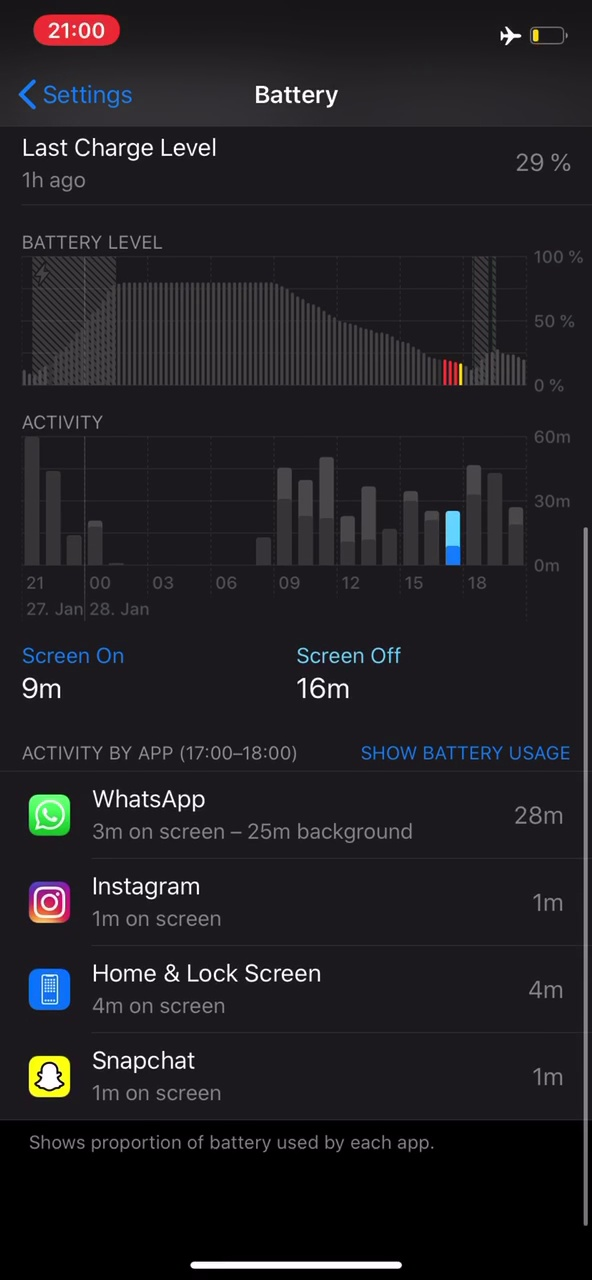activity: (4, 740, 311, 765)
app: (17, 783, 572, 854), (17, 952, 572, 1023), (19, 1039, 574, 1110), (15, 873, 574, 934)
